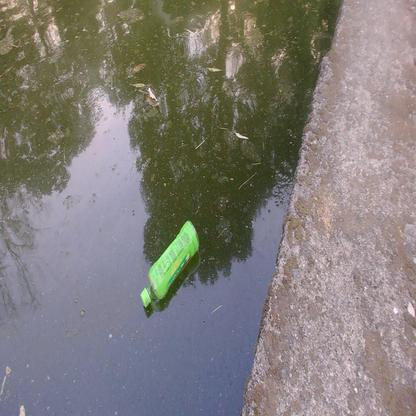plastic bottle: (139, 221, 200, 307)
